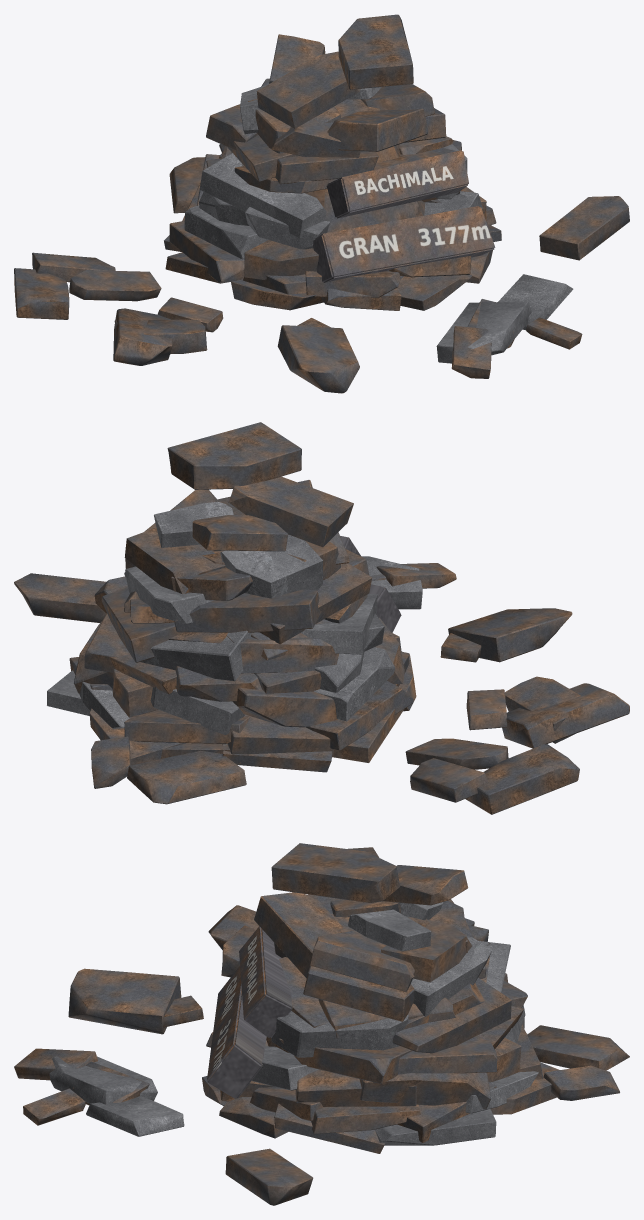
Rendered from cima-bachimala.glb.
3 renders of one model, top to bottom at view 1: azimuth 30°, elevation 25°; view 2: azimuth 150°, elevation 25°; view 3: azimuth 270°, elevation 25°, orthographic. The views are drawn at different scales.
Parts seen in each view (by area): view 1: hito_pizarra, hito_pizarra_gris, placa_gran, placa_bachimala, bloque8, bloque6, bloque12, bloque13, bloque11, bloque7, bloque3, bloque4 (+5 smaller); view 2: hito_pizarra, hito_pizarra_gris, bloque2, bloque11, bloque13, bloque8, bloque6, bloque9, bloque7, bloque1, bloque0, bloque14 (+4 smaller); view 3: hito_pizarra, hito_pizarra_gris, bloque8, placa_gran, placa_bachimala, bloque6, bloque2, bloque12, bloque3, bloque0, bloque4, bloque5 (+3 smaller).
Part boxes in pixels (left/top/right/bottom): hito_pizarra: left=164, top=14, right=501, bottom=310; hito_pizarra_gris: left=184, top=84, right=482, bottom=259; placa_gran: left=313, top=206, right=495, bottom=282; placa_bachimala: left=326, top=150, right=468, bottom=218; bloque8: left=277, top=325, right=359, bottom=393; bloque6: left=539, top=196, right=629, bottom=260; bloque12: left=436, top=301, right=531, bottom=363; bloque13: left=113, top=308, right=172, bottom=365; bloque11: left=14, top=268, right=69, bottom=319; bloque7: left=69, top=270, right=161, bottom=301; bloque3: left=498, top=274, right=573, bottom=330; bloque4: left=451, top=326, right=491, bottom=378; hito_pizarra: left=69, top=422, right=416, bottom=772; hito_pizarra_gris: left=47, top=501, right=394, bottom=734; bloque2: left=127, top=750, right=246, bottom=804; bloque11: left=465, top=744, right=579, bottom=814; bloque13: left=502, top=683, right=629, bottom=748; bloque8: left=448, top=608, right=572, bottom=662; bloque6: left=14, top=573, right=106, bottom=622; bloque9: left=410, top=758, right=487, bottom=802; bloque7: left=405, top=738, right=508, bottom=769; bloque1: left=503, top=676, right=580, bottom=743; bloque0: left=91, top=736, right=131, bottom=788; bloque14: left=466, top=689, right=507, bottom=730; hito_pizarra: left=202, top=843, right=559, bottom=1153; hito_pizarra_gris: left=252, top=902, right=538, bottom=1145; bloque8: left=68, top=968, right=181, bottom=1034; placa_gran: left=207, top=966, right=266, bottom=1098; placa_bachimala: left=239, top=926, right=292, bottom=1037; bloque6: left=225, top=1148, right=313, bottom=1205; bloque2: left=527, top=1025, right=629, bottom=1070; bloque12: left=49, top=1056, right=157, bottom=1104; bloque3: left=86, top=1096, right=184, bottom=1136; bloque0: left=543, top=1065, right=619, bottom=1100; bloque4: left=14, top=1048, right=97, bottom=1080; bloque5: left=23, top=1088, right=85, bottom=1125.
Bounding box in the file's own units: 4.49 × 1.75 × 3.96.
Materials: 4 (4 with a texture image).
